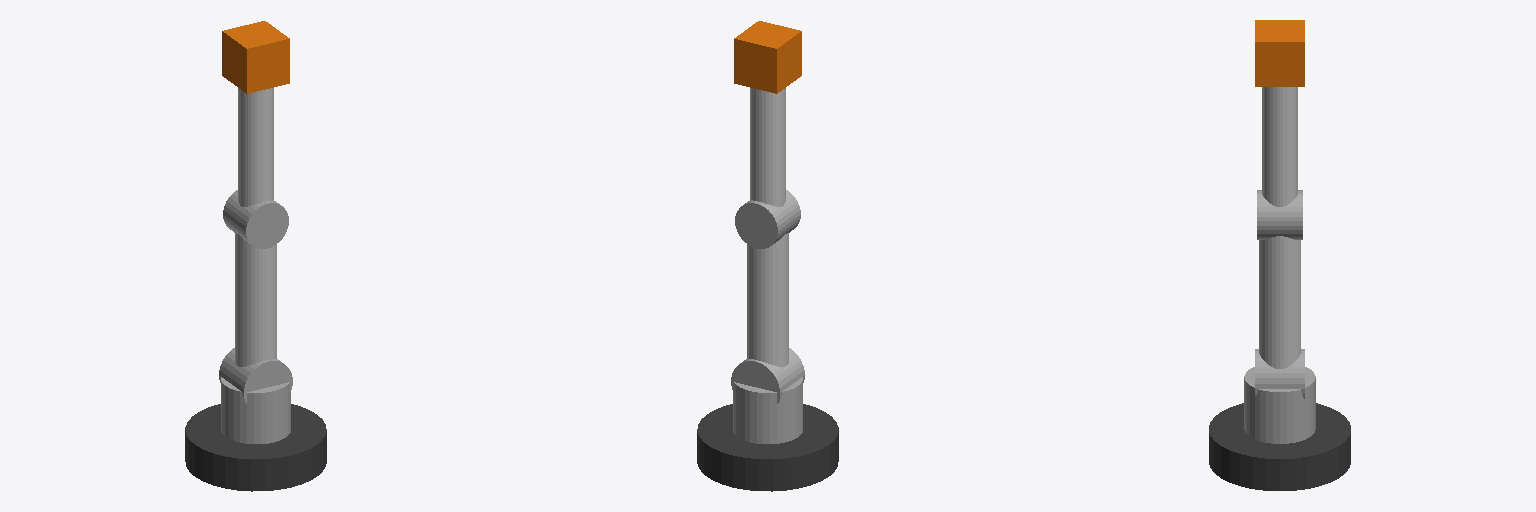
The robot description file, URDF, robot "robot_3r":
<?xml version="1.0"?>
<!-- Copyright 2026 The MathWorks, Inc. -->
<robot name="robot_3r">

  <!-- Base link (world-fixed pedestal) -->
  <link name="base_link">
    <visual>
      <origin xyz="0 0 0.025" rpy="0 0 0"/>
      <geometry>
        <mesh filename="meshes/base_mount.stl"/>
      </geometry>
      <material name="dark_grey"><color rgba="0.3 0.3 0.3 1"/></material>
    </visual>
    <inertial>
      <mass value="5.0"/>
      <origin xyz="0 0 0.025" rpy="0 0 0"/>
      <inertia ixx="0.01" ixy="0" ixz="0" iyy="0.01" iyz="0" izz="0.02"/>
    </inertial>
  </link>

  <!-- Joint 1: base yaw (Z-axis) -->
  <joint name="joint1" type="revolute">
    <parent link="base_link"/>
    <child link="shoulder_link"/>
    <origin xyz="0 0 0.05" rpy="0 0 0"/>
    <axis xyz="0 0 1"/>
    <limit lower="-3.14159" upper="3.14159" effort="50" velocity="2.0"/>
  </joint>

  <!-- Shoulder link (yaw housing) -->
  <link name="shoulder_link">
    <visual>
      <origin xyz="0 0 0.04" rpy="0 0 0"/>
      <geometry>
        <mesh filename="meshes/shoulder_housing.stl"/>
      </geometry>
      <material name="light_grey"><color rgba="0.7 0.7 0.7 1"/></material>
    </visual>
    <inertial>
      <mass value="2.0"/>
      <origin xyz="0 0 0.04" rpy="0 0 0"/>
      <inertia ixx="0.005" ixy="0" ixz="0" iyy="0.005" iyz="0" izz="0.003"/>
    </inertial>
  </link>

  <!-- Joint 2: shoulder pitch (Y-axis) -->
  <joint name="joint2" type="revolute">
    <parent link="shoulder_link"/>
    <child link="upper_arm_link"/>
    <origin xyz="0 0 0.08" rpy="0 0 0"/>
    <axis xyz="0 1 0"/>
    <limit lower="-2.356" upper="2.356" effort="50" velocity="2.0"/>
  </joint>

  <!-- Upper arm link -->
  <link name="upper_arm_link">
    <visual>
      <origin xyz="0 0 0" rpy="1.5708 0 0"/>
      <geometry>
        <mesh filename="meshes/shoulder_joint_housing.stl"/>
      </geometry>
      <material name="light_grey"/>
    </visual>
    <visual>
      <origin xyz="0 0 0.125" rpy="0 0 0"/>
      <geometry>
        <mesh filename="meshes/upper_arm.stl"/>
      </geometry>
      <material name="silver"><color rgba="0.8 0.8 0.8 1"/></material>
    </visual>
    <inertial>
      <mass value="1.5"/>
      <origin xyz="0 0 0.125" rpy="0 0 0"/>
      <inertia ixx="0.008" ixy="0" ixz="0" iyy="0.008" iyz="0" izz="0.001"/>
    </inertial>
  </link>

  <!-- Joint 3: elbow pitch (Y-axis) -->
  <joint name="joint3" type="revolute">
    <parent link="upper_arm_link"/>
    <child link="forearm_link"/>
    <origin xyz="0 0 0.25" rpy="0 0 0"/>
    <axis xyz="0 1 0"/>
    <limit lower="-2.356" upper="2.356" effort="30" velocity="2.5"/>
  </joint>

  <!-- Forearm link -->
  <link name="forearm_link">
    <visual>
      <origin xyz="0 0 0" rpy="1.5708 0 0"/>
      <geometry>
        <mesh filename="meshes/elbow_joint_housing.stl"/>
      </geometry>
      <material name="light_grey"/>
    </visual>
    <visual>
      <origin xyz="0 0 0.125" rpy="0 0 0"/>
      <geometry>
        <mesh filename="meshes/forearm.stl"/>
      </geometry>
      <material name="silver"/>
    </visual>
    <inertial>
      <mass value="1.0"/>
      <origin xyz="0 0 0.125" rpy="0 0 0"/>
      <inertia ixx="0.005" ixy="0" ixz="0" iyy="0.005" iyz="0" izz="0.0005"/>
    </inertial>
  </link>

  <!-- Fixed joint to end effector -->
  <joint name="ee_fixed" type="fixed">
    <parent link="forearm_link"/>
    <child link="end_effector_link"/>
    <origin xyz="0 0 0.25" rpy="0 0 0"/>
  </joint>

  <!-- End effector link -->
  <link name="end_effector_link">
    <visual>
      <origin xyz="0 0 0" rpy="0 0 0"/>
      <geometry>
        <mesh filename="meshes/end_effector.stl"/>
      </geometry>
      <material name="orange"><color rgba="0.9 0.5 0.1 1"/></material>
    </visual>
    <inertial>
      <mass value="0.3"/>
      <origin xyz="0 0 0" rpy="0 0 0"/>
      <inertia ixx="0.0001" ixy="0" ixz="0" iyy="0.0001" iyz="0" izz="0.0001"/>
    </inertial>
  </link>

</robot>

--- Render facts (derived) ---
3 views of the same robot in one strip: view 1: azimuth 30°, elevation 25°; view 2: azimuth 150°, elevation 25°; view 3: azimuth 270°, elevation 25° (orthographic).
Model robot_3r with 5 links and 4 joints (3 revolute, 1 fixed), rooted at base_link, posed all joints at 0.
Visible links, largest first — view 1: base_link, upper_arm_link, forearm_link, end_effector_link, shoulder_link; view 2: base_link, upper_arm_link, forearm_link, end_effector_link, shoulder_link; view 3: base_link, upper_arm_link, forearm_link, shoulder_link, end_effector_link.
Link boxes in pixels (x1,y1,x2,y2): base_link: [185, 404, 326, 491]; upper_arm_link: [219, 233, 292, 403]; forearm_link: [223, 88, 288, 248]; end_effector_link: [222, 21, 289, 93]; shoulder_link: [221, 377, 290, 443]; base_link: [697, 404, 838, 491]; upper_arm_link: [731, 233, 804, 403]; forearm_link: [735, 88, 800, 248]; end_effector_link: [734, 21, 801, 93]; shoulder_link: [733, 377, 802, 443]; base_link: [1209, 403, 1350, 490]; upper_arm_link: [1255, 236, 1304, 398]; forearm_link: [1257, 87, 1302, 239]; shoulder_link: [1244, 367, 1315, 443]; end_effector_link: [1255, 20, 1304, 86].
Size in the robot's own frame: 0.2 by 0.2 by 0.665 metres.
7 mesh visuals loaded from 7 distinct referenced files (7 binary STL).
